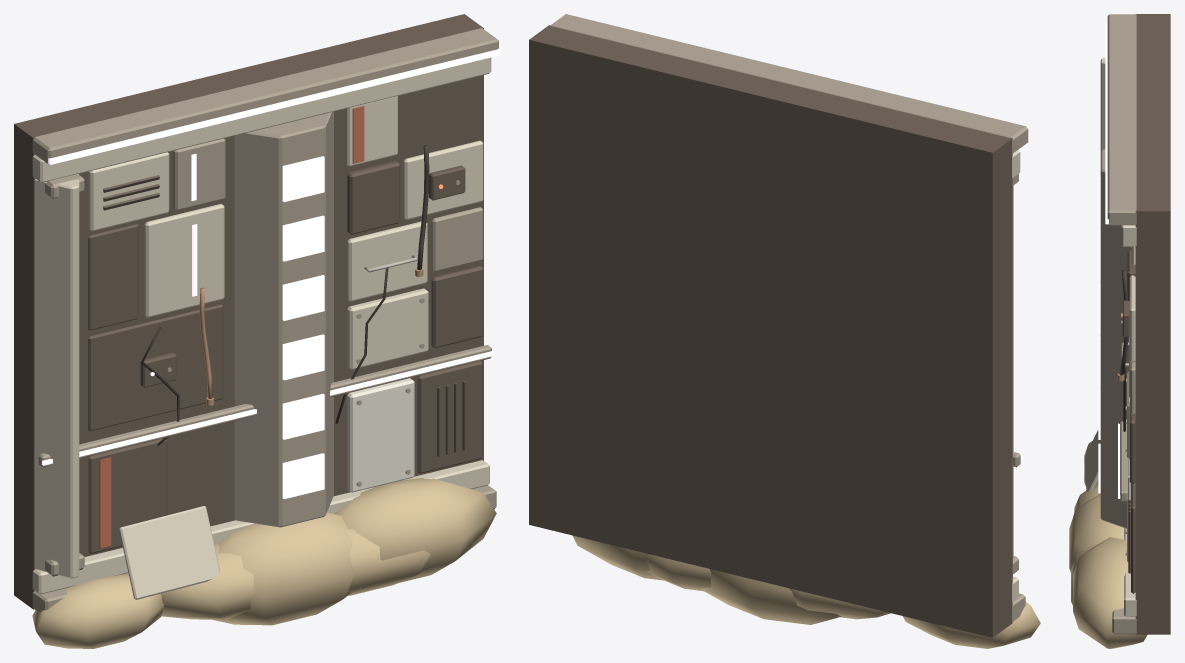
The model's file is wall_du_light.glb.
3 views of the same model, side by side, from view 1: azimuth 30°, elevation 25°; view 2: azimuth 150°, elevation 25°; view 3: azimuth 270°, elevation 25° (orthographic). The views are drawn at different scales.
Visible parts, largest first — view 1: wall_du_light; view 2: wall_du_light; view 3: wall_du_light.
Boxes of the visible parts, x1,y1,x2,y2 form: wall_du_light: (14,14,500,648); wall_du_light: (529,14,1040,648); wall_du_light: (1069,14,1170,648).
Bounding box in the file's own units: 4.11 × 4.49 × 0.8699.
